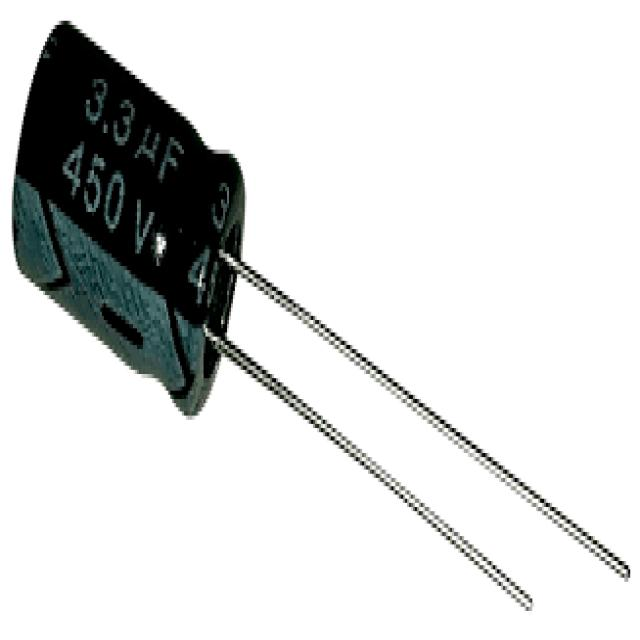Capacitor: (12, 21, 247, 420), (12, 21, 245, 420)
